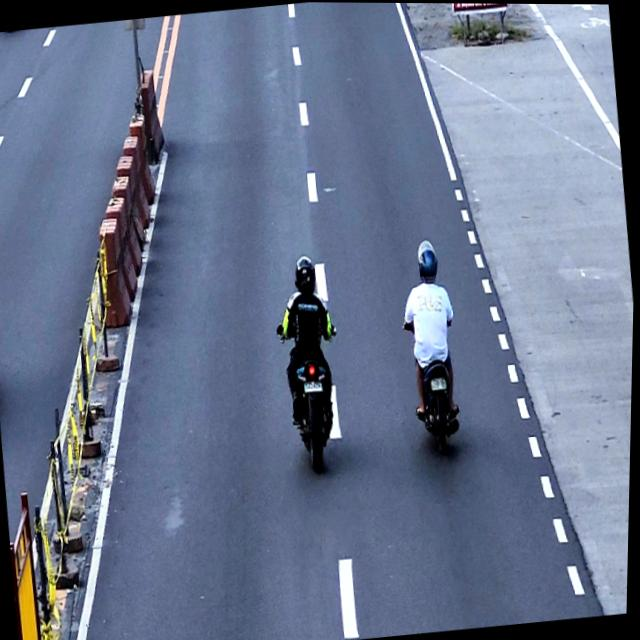License-Plate: (304, 376, 324, 393), (431, 376, 448, 390)
Motorcycle: (275, 320, 352, 475), (402, 317, 467, 456)
